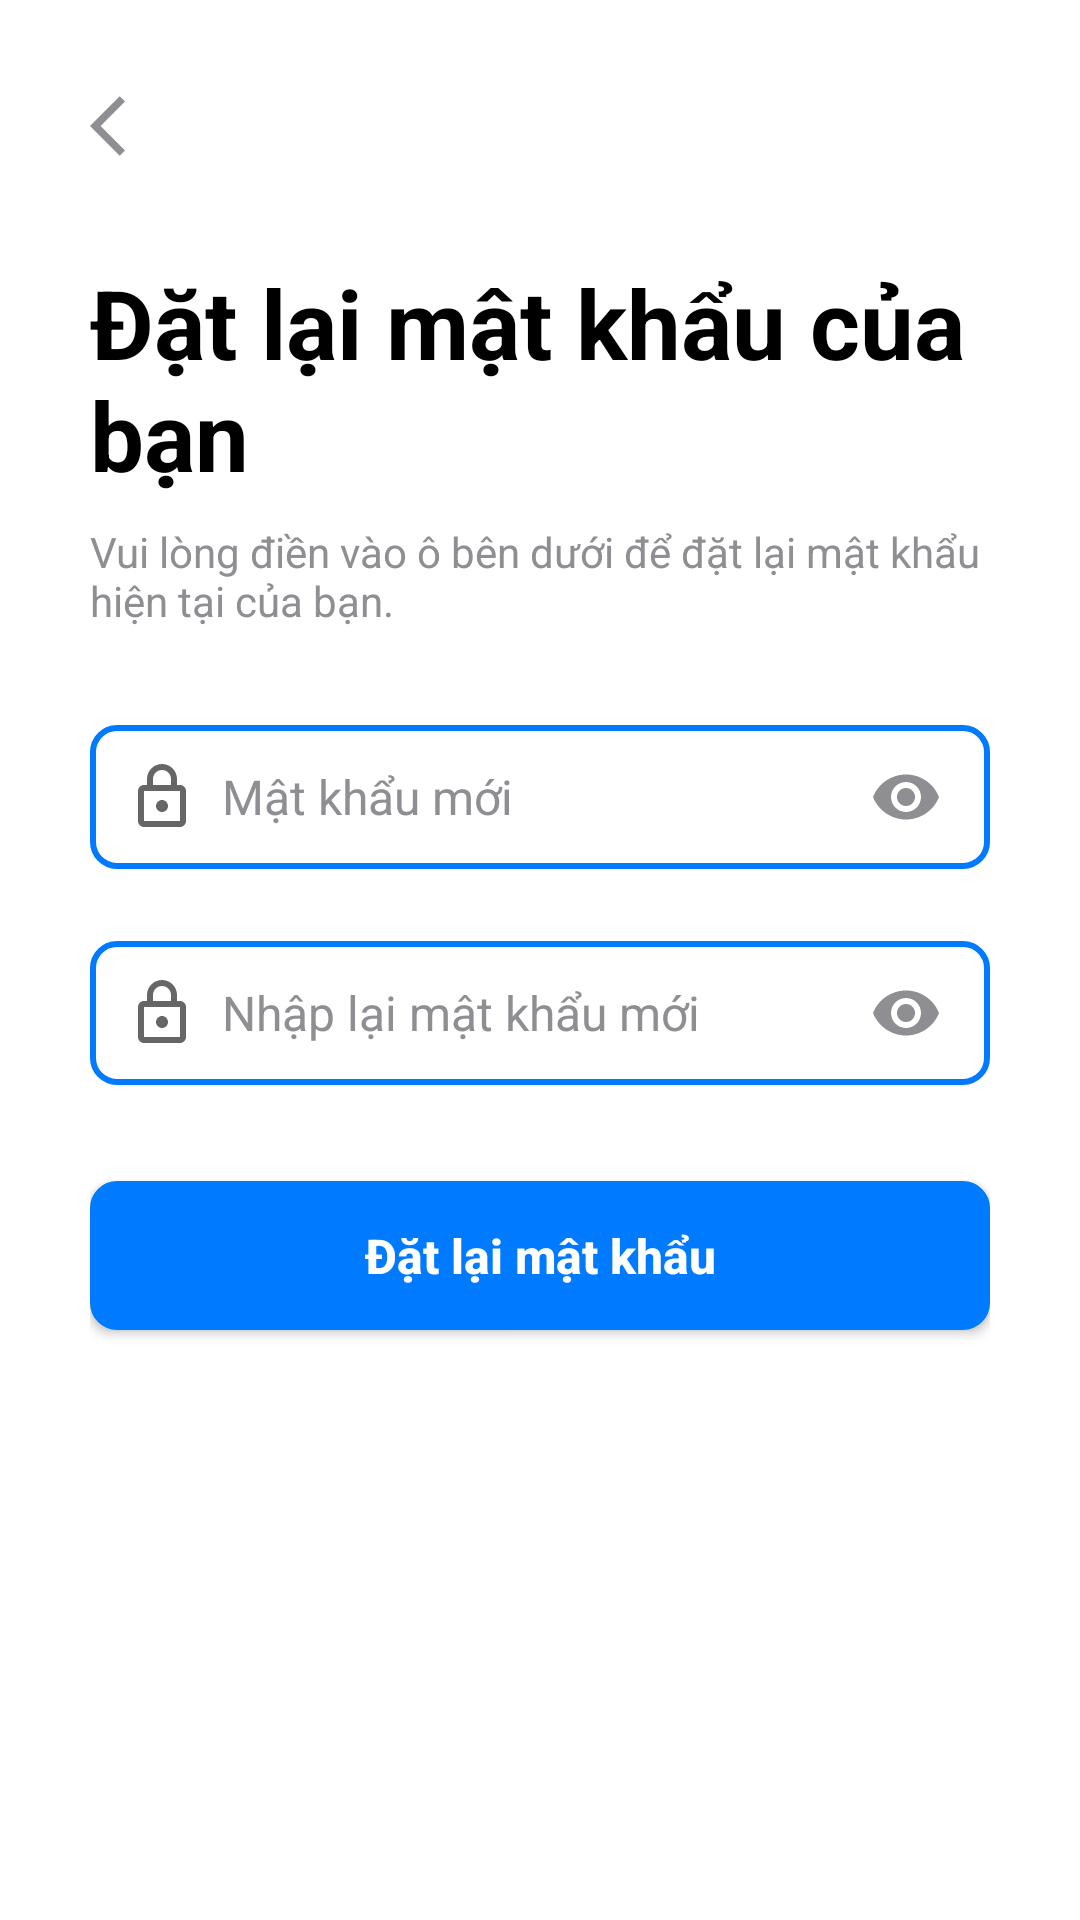

Where icons sit on this 1080 × 1920 app screen, as Rect(x1, y1, x2, y2):
eye: Rect(873, 774, 939, 820), Rect(873, 990, 939, 1036)
Quay lại: Rect(90, 96, 125, 156)
